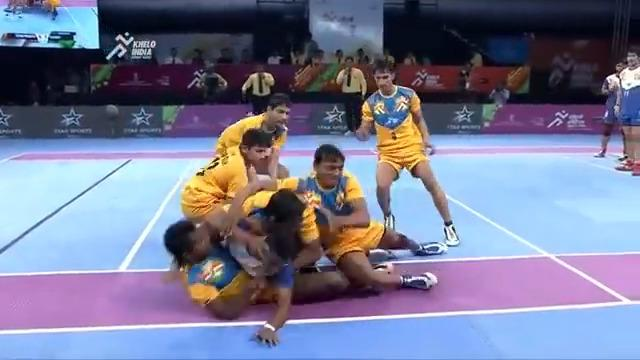Player: (295, 143, 439, 296), (354, 64, 460, 247), (180, 127, 282, 223), (214, 92, 292, 179), (592, 60, 628, 159), (614, 49, 639, 174)
referee: (190, 60, 227, 103)
